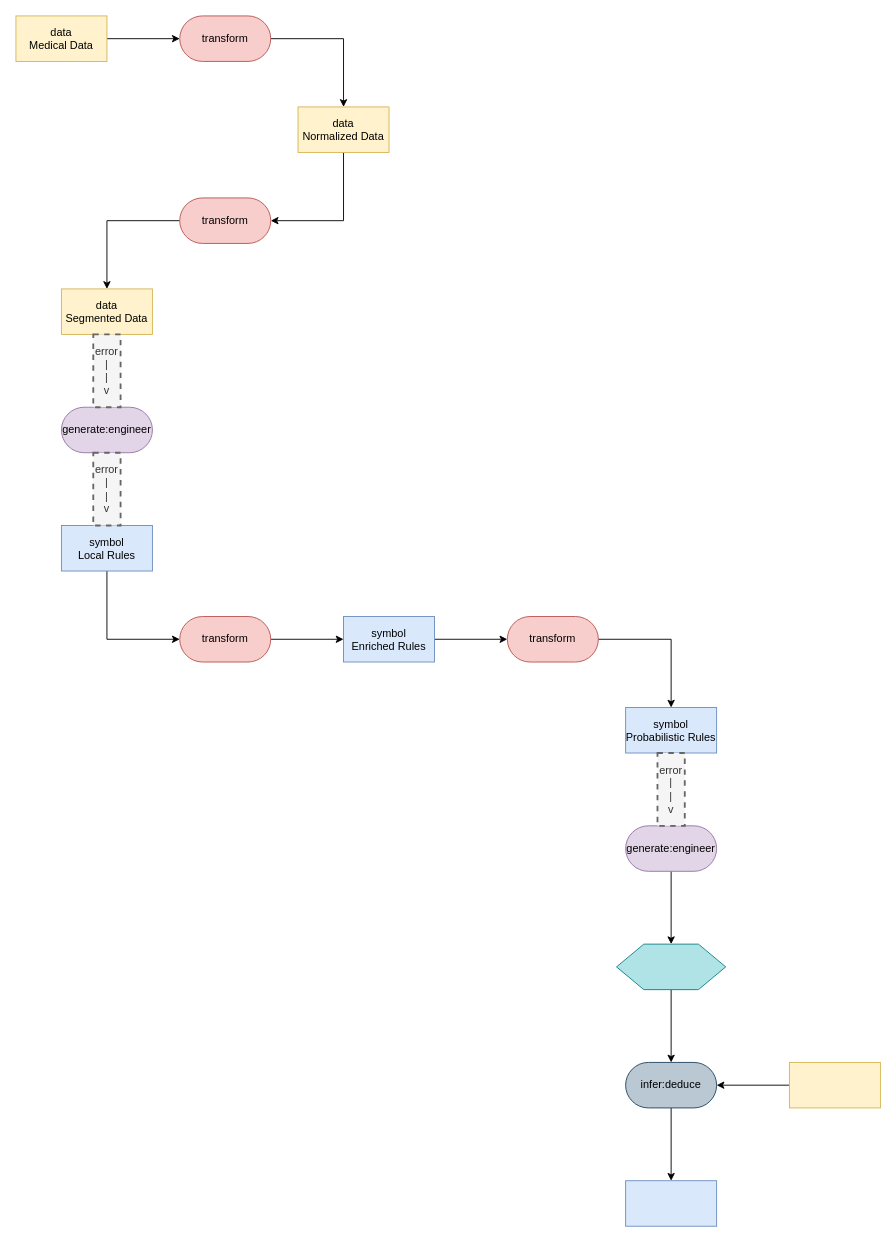
The diagram is 896 pixels wide and 1246 high, and some of its shapes have lost their labels. Each missing label, with the centre of its shape:
data Patient Data: (x=834, y=1085)
model:hybrid DPFRM System: (x=671, y=966)
symbol Task Specific Prediction (e.g., Mortality): (x=671, y=1203)
